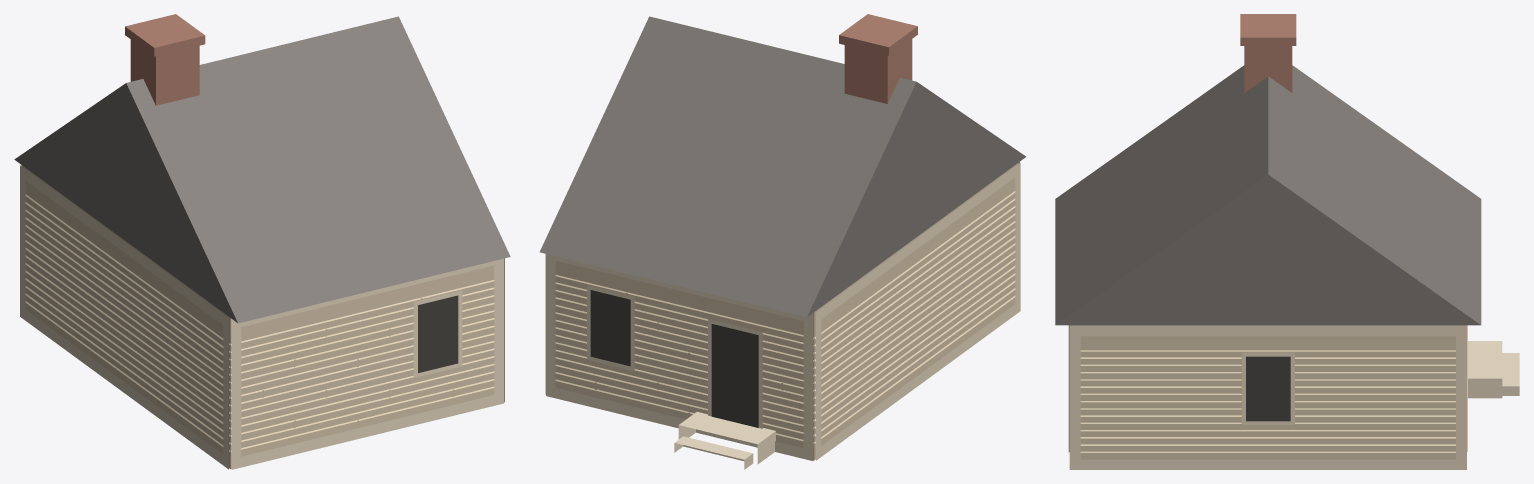
Rendered from recon_1835_south_d3_022__inferred_1835.glb.
The picture shows the model from 3 angles, left to right: view 1: azimuth 30°, elevation 25°; view 2: azimuth 150°, elevation 25°; view 3: azimuth 270°, elevation 25°; orthographic projection. The views are drawn at different scales.
Visible parts, largest first — view 1: recon_1835_south_d3_022__inferred_1835; view 2: recon_1835_south_d3_022__inferred_1835; view 3: recon_1835_south_d3_022__inferred_1835.
Part boxes in pixels (<box>): recon_1835_south_d3_022__inferred_1835: <box>14,14,510,469</box>; recon_1835_south_d3_022__inferred_1835: <box>540,14,1025,469</box>; recon_1835_south_d3_022__inferred_1835: <box>1055,14,1519,469</box>.
Bounding box in the file's own units: 5.32 × 6.47 × 8.13.
